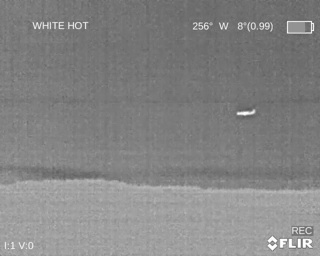AIRPLANE: (235, 108, 257, 117)
